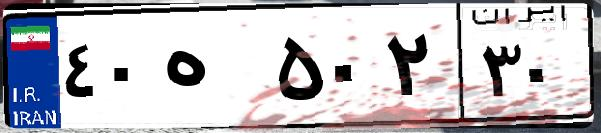0: (330, 28, 385, 110), (525, 38, 570, 115), (110, 28, 158, 98)
2: (385, 28, 445, 110)
3: (475, 38, 525, 113)
4: (57, 26, 110, 100)
5: (270, 28, 330, 110)
ه: (158, 20, 270, 120)
